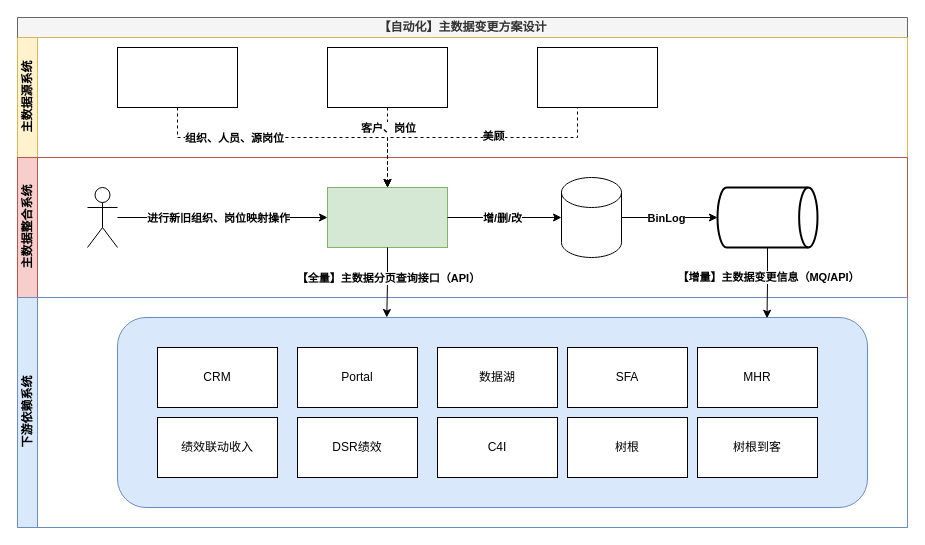
Image size: 925x545. Some labels were removed from this diagram. The shapes that lost their labels are listed below. From the top down, each one's centre as x and y in pixels, then its label:
At (x=177, y=77): "SF系统".
At (x=387, y=77): "CRM系统".
At (x=597, y=77): "MHR系统".
At (x=102, y=217): "Admin".
At (x=387, y=217): "主数据管理服务".
At (x=591, y=217): "DB".
At (x=767, y=217): "Canal".
